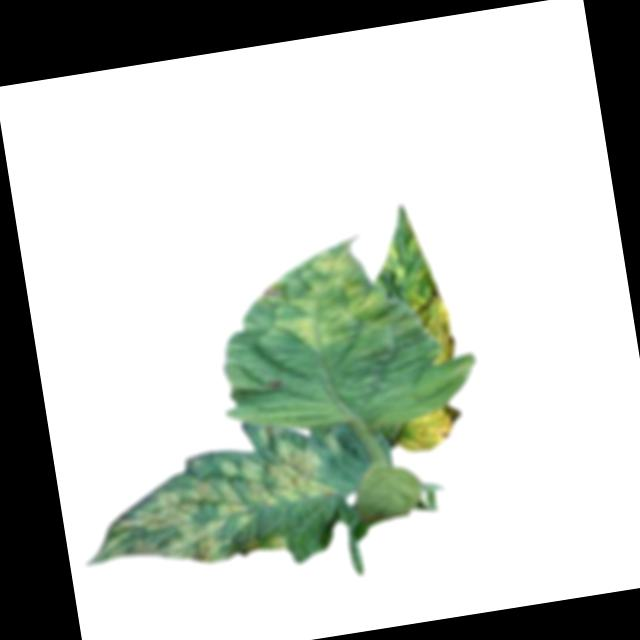Leaf_Mold: (68, 419, 335, 584), (256, 237, 391, 356), (409, 285, 460, 370), (391, 401, 465, 454)
